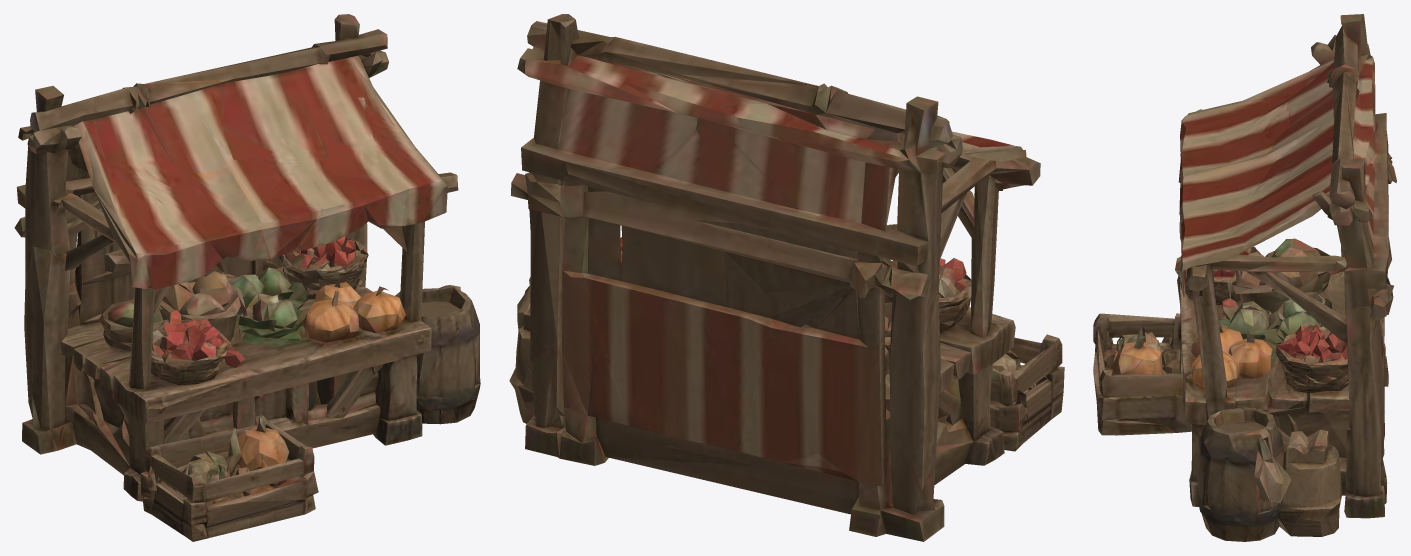
File: poi_stall.glb
The picture shows the model from 3 angles, left to right: view 1: azimuth 30°, elevation 25°; view 2: azimuth 150°, elevation 25°; view 3: azimuth 270°, elevation 25°; orthographic projection. The views are drawn at different scales.
Visible parts, largest first — view 1: poi_stall; view 2: poi_stall; view 3: poi_stall.
Boxes of the visible parts, x1,y1,x2,y2 form: poi_stall: (14, 14, 480, 541); poi_stall: (509, 14, 1064, 541); poi_stall: (1093, 14, 1396, 541).
Bounding box in the file's own units: 4.5 × 3.82 × 2.98.
1 material, 1 textured.
